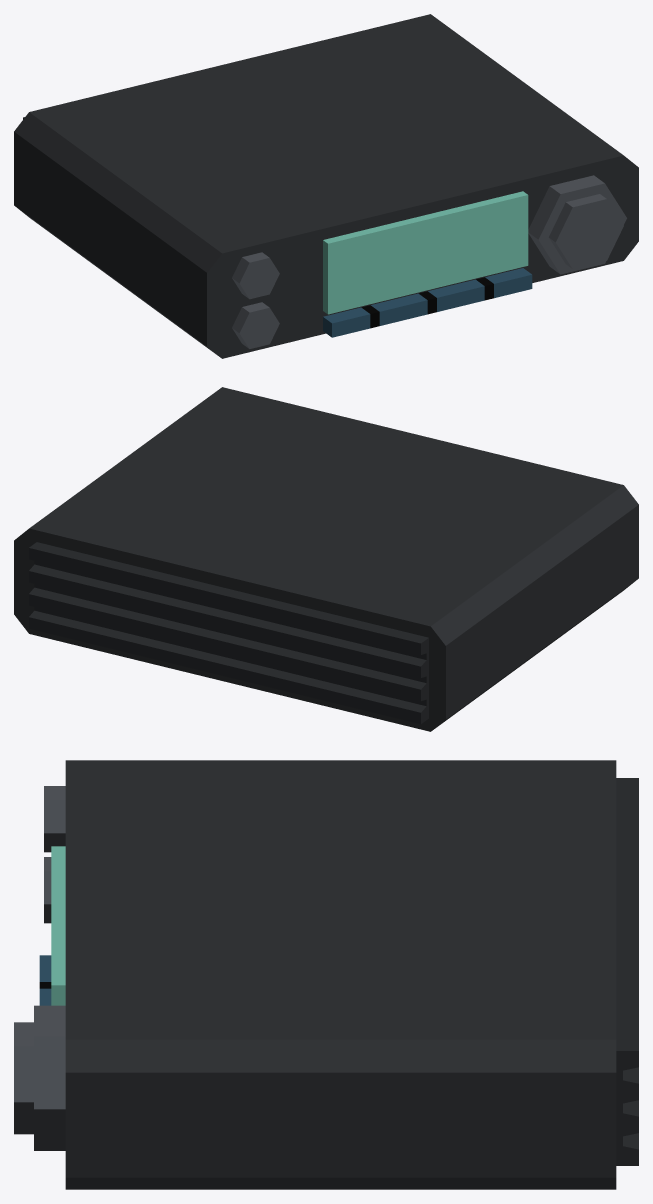
File: SM_Prop_UHFRadio_01.fbx
3 views of the same model, one above another, from view 1: azimuth 30°, elevation 25°; view 2: azimuth 150°, elevation 25°; view 3: azimuth 270°, elevation 25° (orthographic). The views are drawn at different scales.
Parts seen in each view (by area): view 1: SM_Prop_UHFRadio_01; view 2: SM_Prop_UHFRadio_01; view 3: SM_Prop_UHFRadio_01.
Part boxes in pixels (left/top/right/bottom): SM_Prop_UHFRadio_01: left=14, top=14, right=638, bottom=358; SM_Prop_UHFRadio_01: left=14, top=387, right=638, bottom=731; SM_Prop_UHFRadio_01: left=14, top=760, right=638, bottom=1189.
Size of the model in its own units: 44.03 by 10.27 by 38.72.
